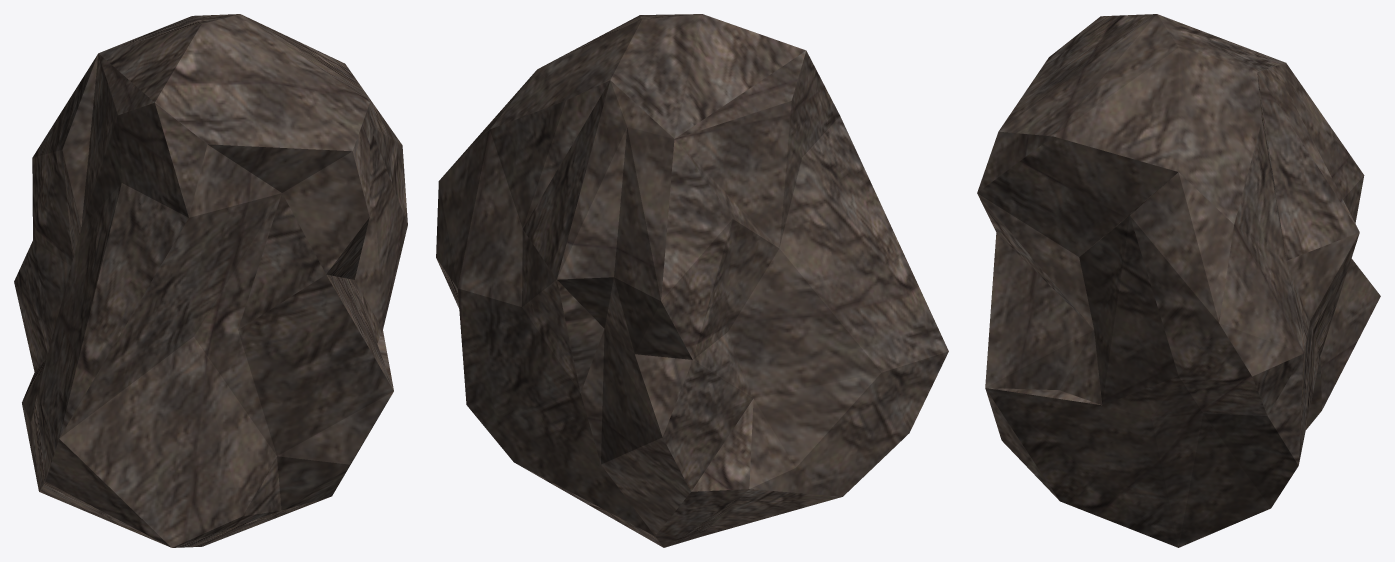
Rendered from LampLight_Rock_2.FBX.
3 renders of one model, left to right at view 1: azimuth 30°, elevation 25°; view 2: azimuth 150°, elevation 25°; view 3: azimuth 270°, elevation 25°, orthographic.
Parts seen in each view (by area): view 1: Bg_Rock_4; view 2: Bg_Rock_4; view 3: Bg_Rock_4.
Boxes of the visible parts, x1,y1,x2,y2 form: Bg_Rock_4: (14,14,407,547); Bg_Rock_4: (436,14,948,547); Bg_Rock_4: (977,14,1380,547).
Bounding box in the file's own units: 62.37 × 73.08 × 51.9.
